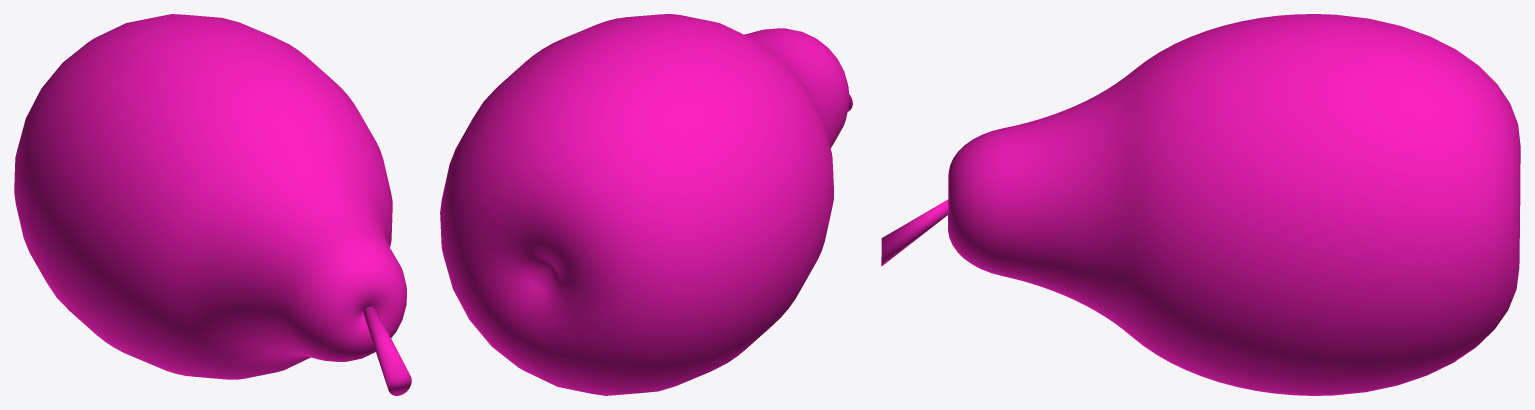
File: pear1_5.dae
3 views of the same model, side by side, from view 1: azimuth 30°, elevation 25°; view 2: azimuth 150°, elevation 25°; view 3: azimuth 270°, elevation 25° (orthographic). The views are drawn at different scales.
Visible parts, largest first — view 1: pear1_019; view 2: pear1_019; view 3: pear1_019.
Part boxes in pixels (box(x1,y1,x2,y2)): pear1_019: box(14, 14, 411, 395); pear1_019: box(440, 14, 852, 395); pear1_019: box(881, 14, 1520, 395).
Bounding box in the file's own units: 0.045 × 0.0753 × 0.045.
